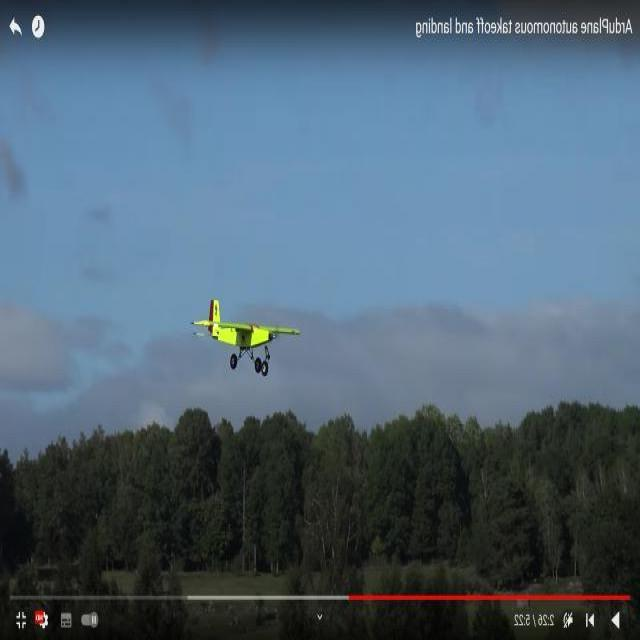iha: (222, 328, 271, 346)
